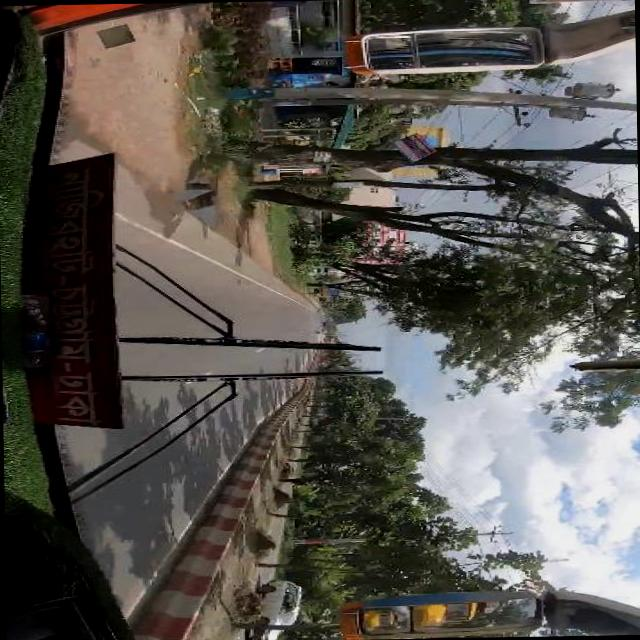car: (250, 577, 306, 640)
